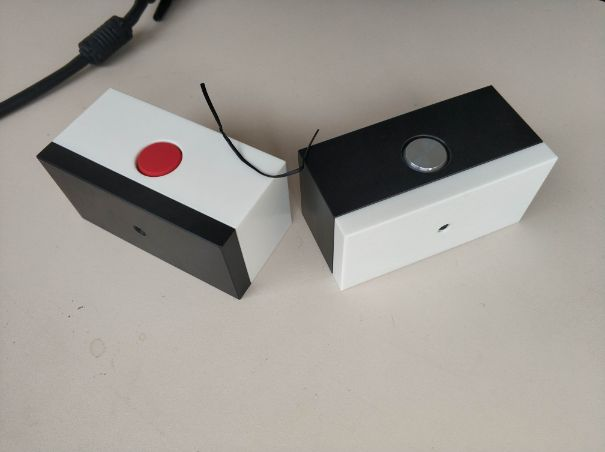black+white+red: (34, 85, 296, 303)
white+black+silver: (296, 80, 560, 293)
